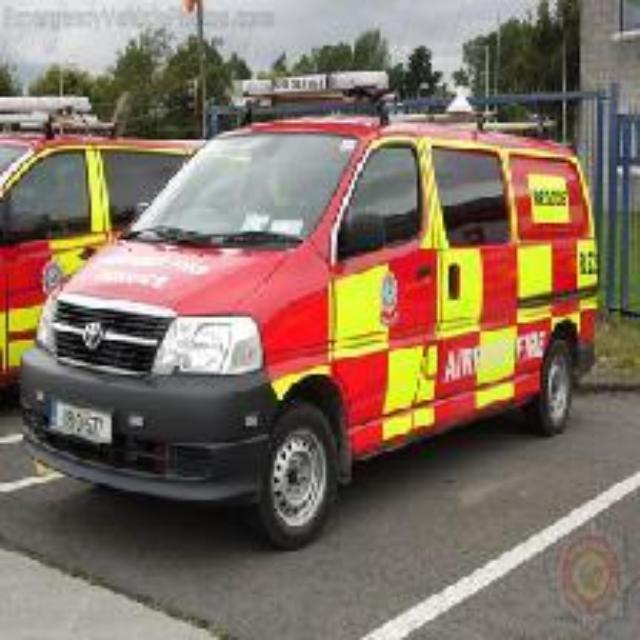emergency: (76, 103, 602, 525)
